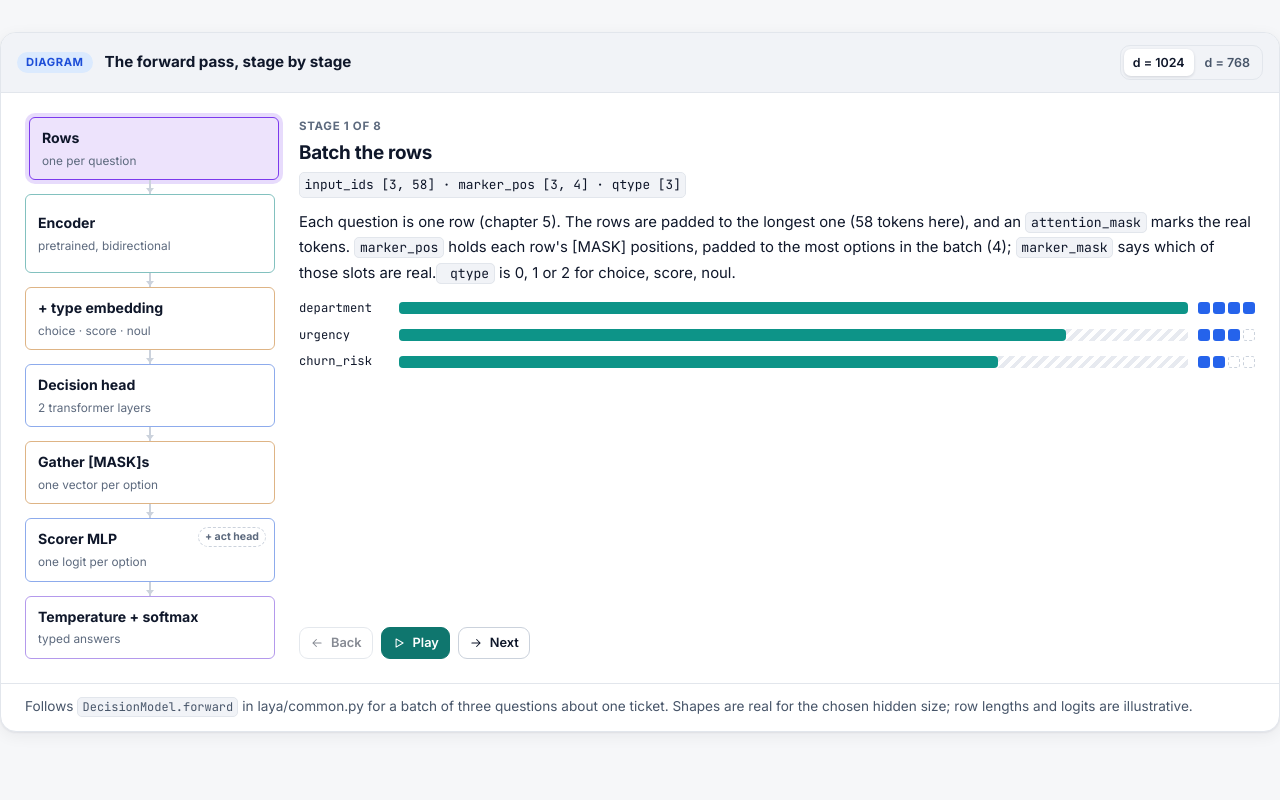
ForwardPass › steps through the stages with real shapes for the chosen width
Expected: the text "Batch the rows" is shown, [299, 141, 432, 164]
Click the button "Next".
click(494, 643)  # box [458, 627, 530, 659]
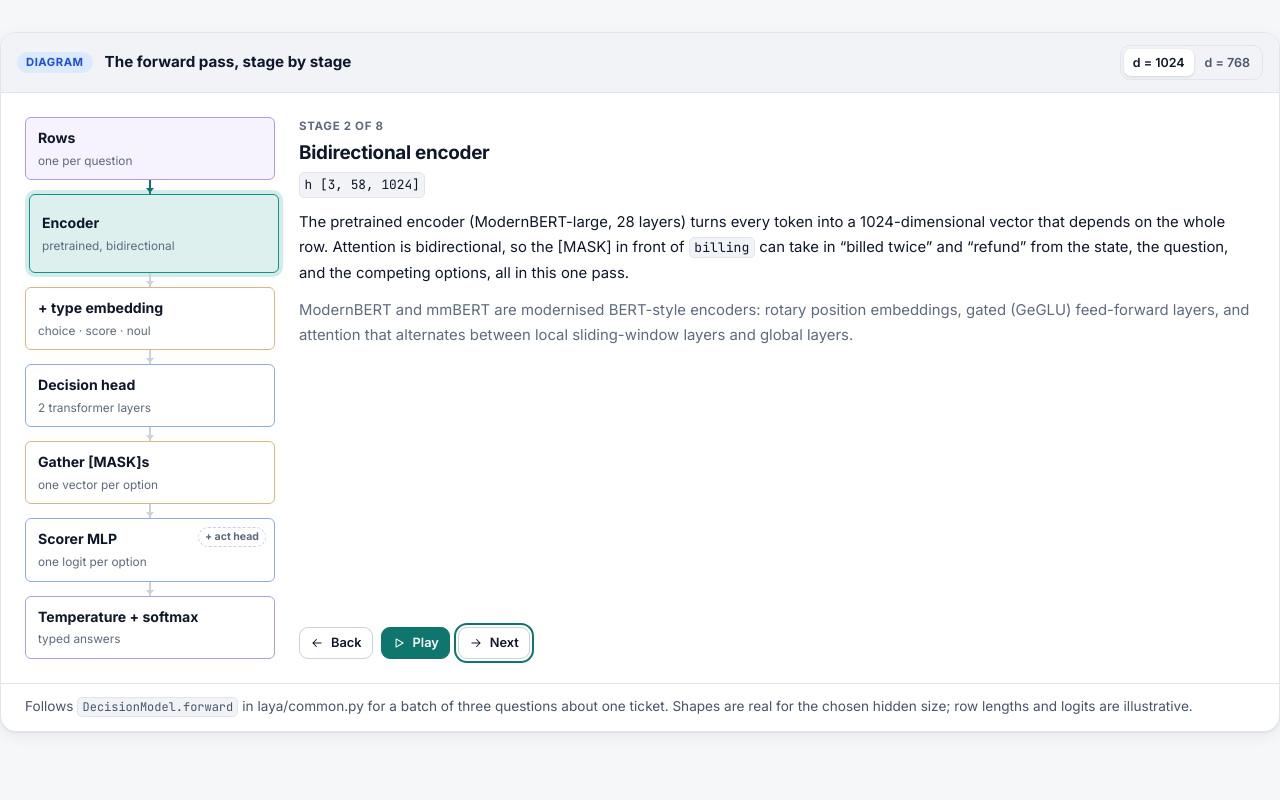
Result: the text "Bidirectional encoder" is shown at [299, 141, 490, 164]
Result: the text "h [3, 58, 1024]" is shown at [299, 172, 425, 198]
Click the radio button labelled "d = 768".
click(1227, 63)  # box [1196, 49, 1259, 76]
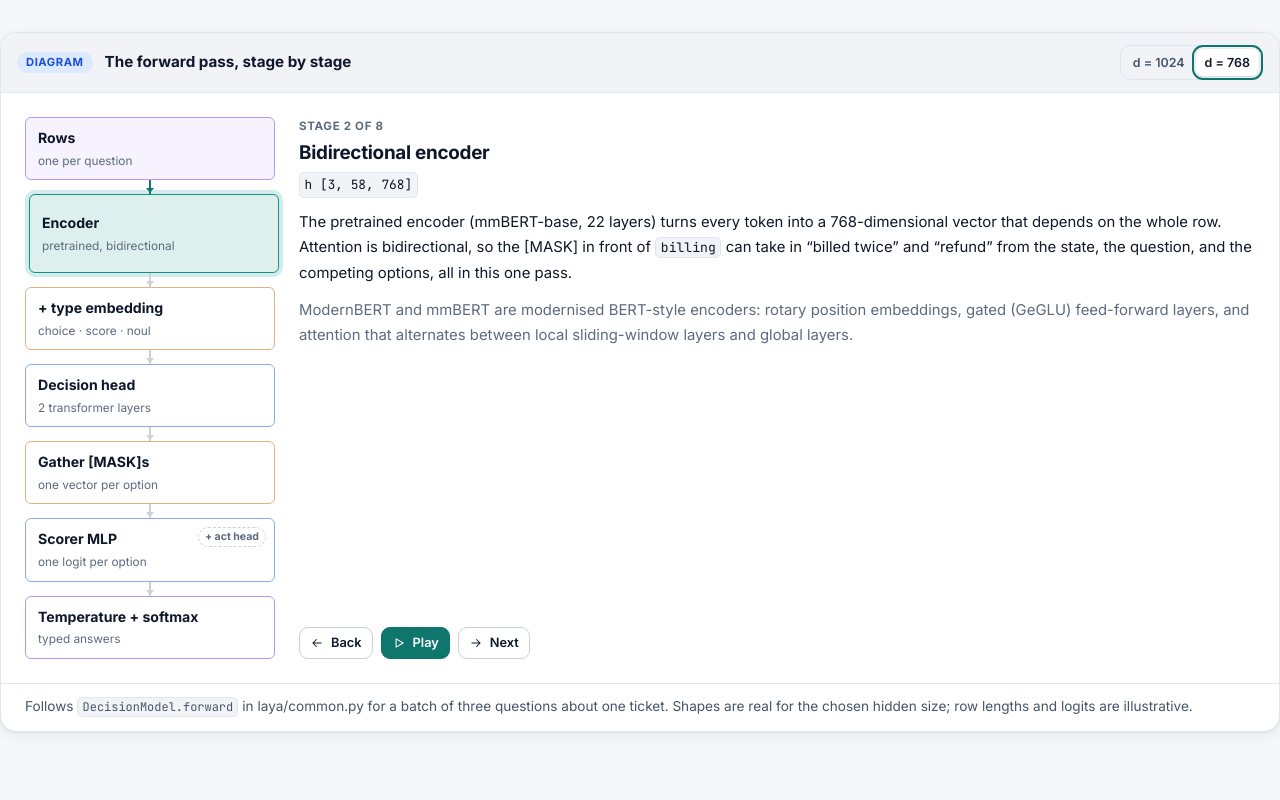
Result: the text "h [3, 58, 768]" is shown at [299, 172, 418, 198]
